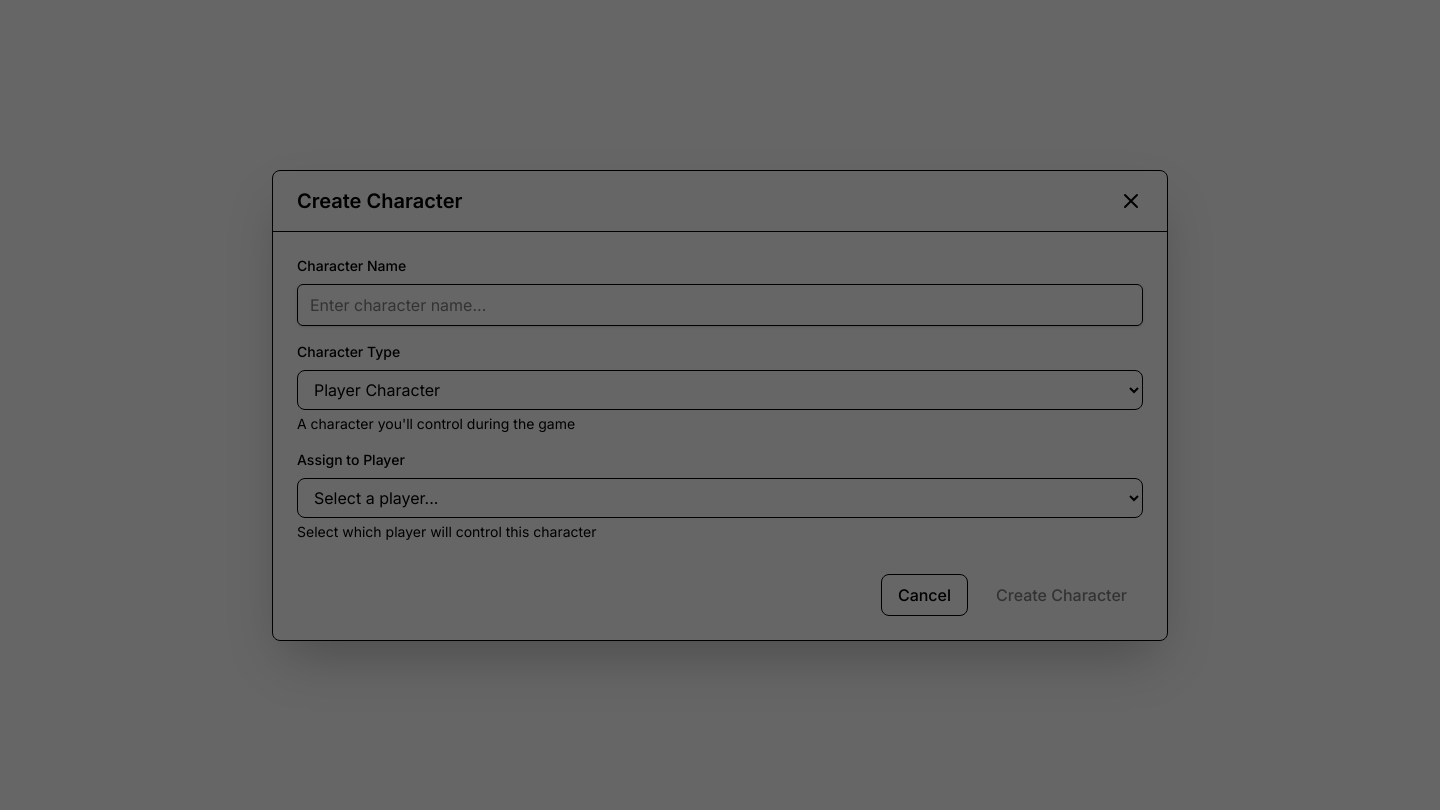
Scenario: CreateCharacterModal › GM Role - Character Type Selection › shows helper text for NPC
This screenshot has width=1440, height=810.
Step 1. Select "NPC" in the dropdown labelled "Character Type" → (720, 390), box [297,370,1143,410]
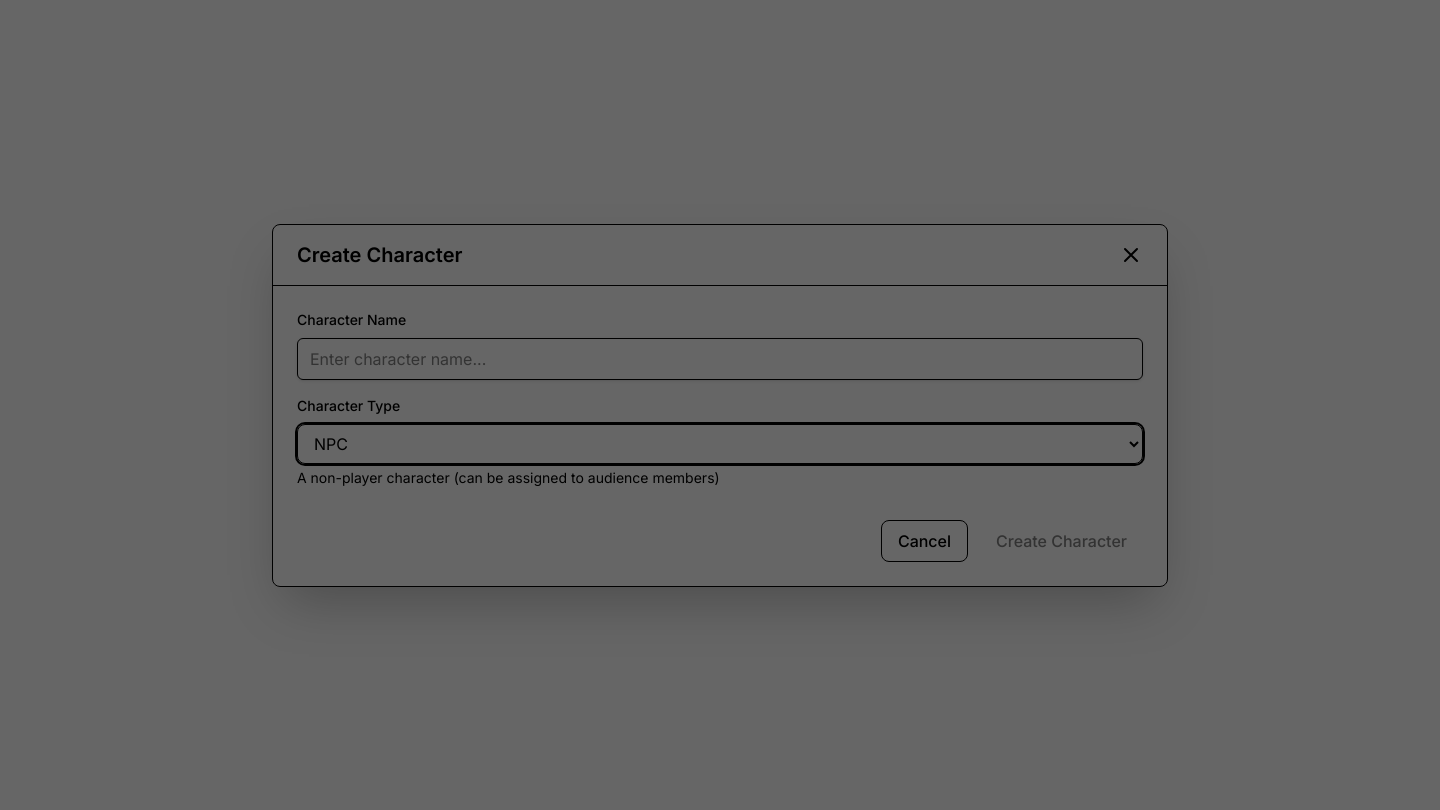
Check: the text "A non-player character (can be assigned to audience members)" is shown, box [297,468,720,486]
